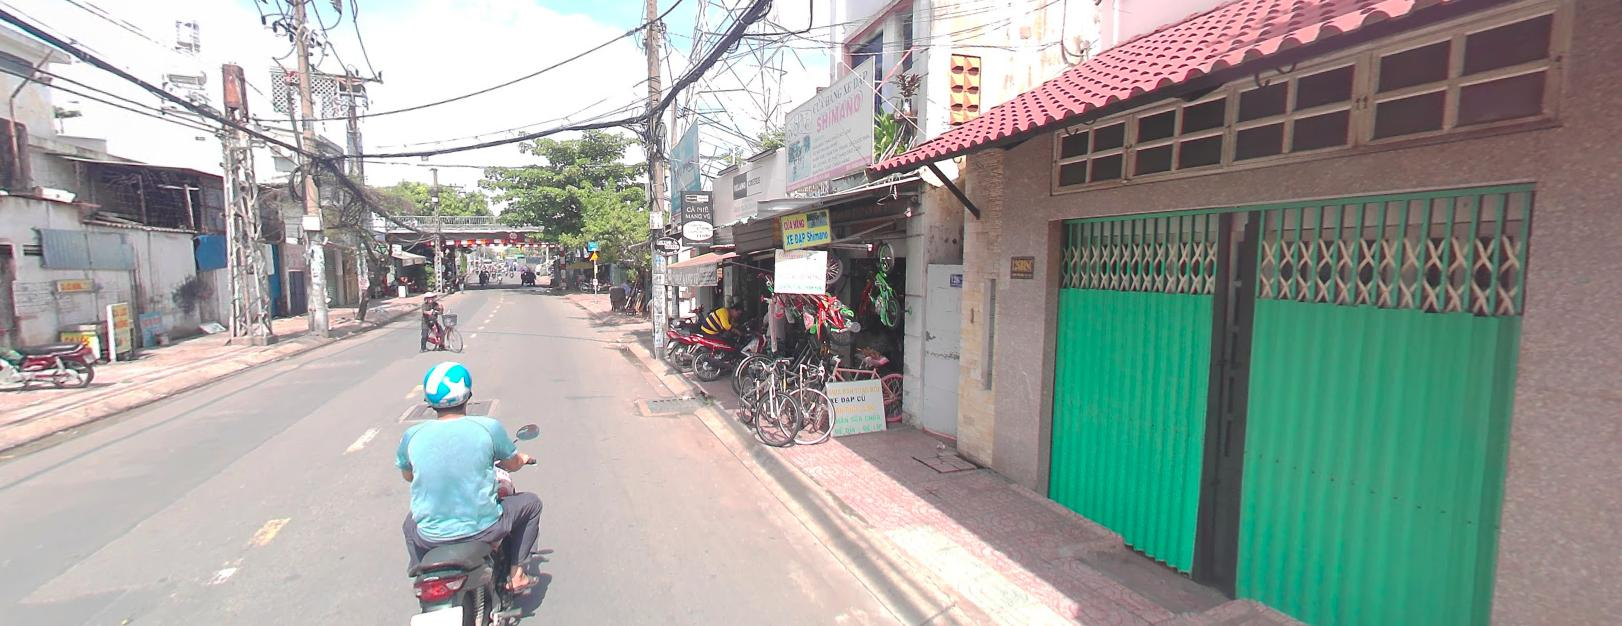Cam con lai: (509, 229, 518, 238)
Nguy hiem: (589, 250, 598, 257)
